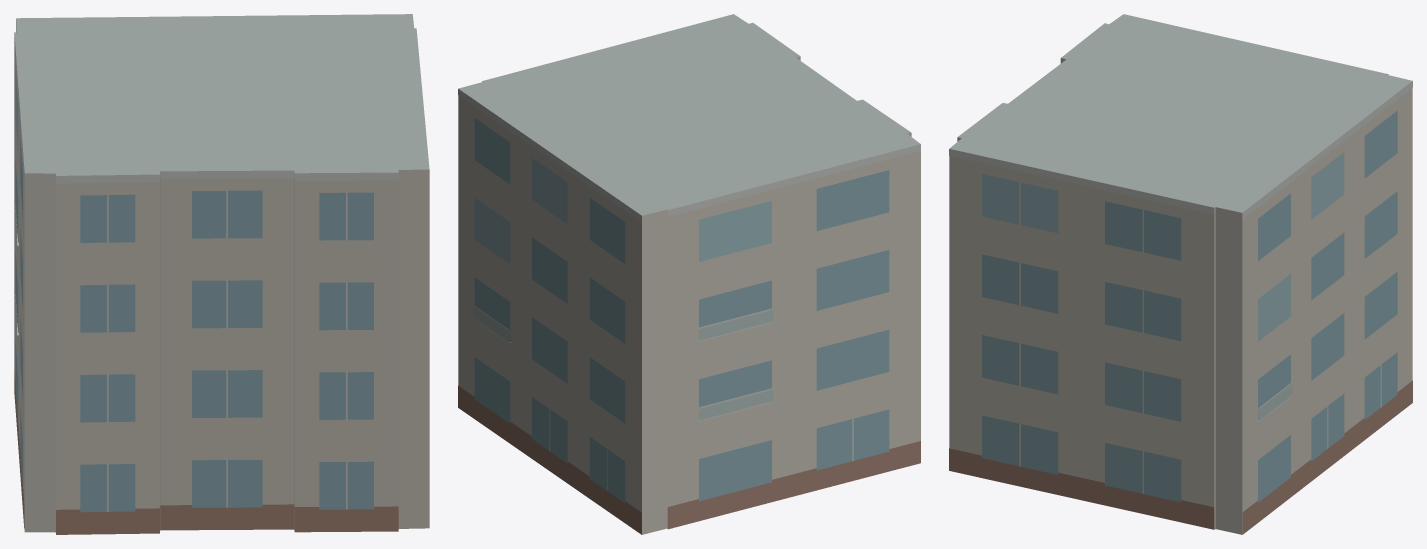
File: survey-upis-32658759.glb
The picture shows the model from 3 angles, left to right: view 1: azimuth 30°, elevation 25°; view 2: azimuth 150°, elevation 25°; view 3: azimuth 270°, elevation 25°; orthographic projection. The views are drawn at different scales.
Visible parts, largest first — view 1: survey-upis-32658759.tmp; view 2: survey-upis-32658759.tmp; view 3: survey-upis-32658759.tmp.
Boxes of the visible parts, x1=… form: survey-upis-32658759.tmp: x1=14, y1=14, x2=429, y2=534; survey-upis-32658759.tmp: x1=458, y1=14, x2=920, y2=534; survey-upis-32658759.tmp: x1=949, y1=14, x2=1412, y2=534.
Bounding box in the file's own units: 15.11 × 11.4 × 14.88.
